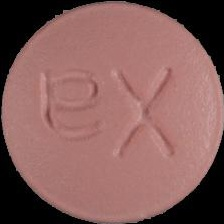55154-1422: (0, 0, 224, 224)
